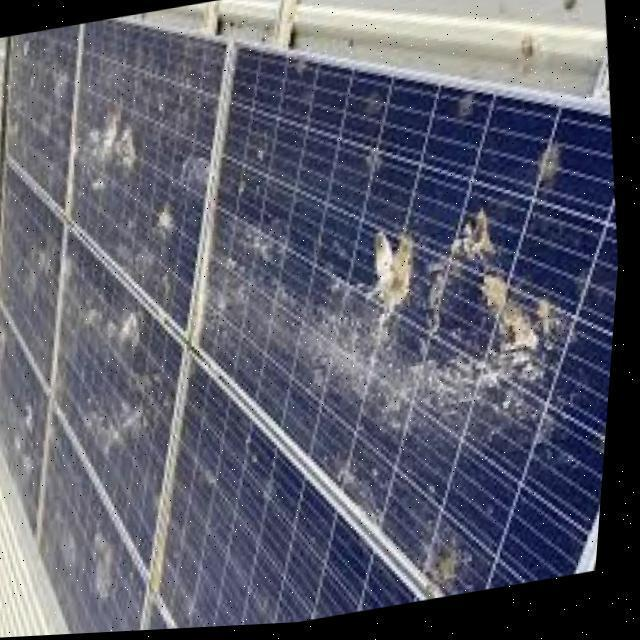Anomaly Solar Panel: (198, 46, 623, 602), (161, 354, 437, 631), (72, 18, 228, 338), (57, 225, 190, 576), (46, 404, 158, 635), (2, 160, 69, 391), (9, 23, 82, 215), (0, 301, 55, 545)
Surface Contaminant: (350, 210, 588, 454), (72, 21, 224, 206), (0, 23, 99, 214), (0, 307, 77, 549), (0, 158, 83, 372), (202, 228, 292, 356), (86, 392, 175, 461), (82, 288, 161, 363), (422, 530, 488, 596), (83, 524, 135, 602), (168, 556, 220, 630), (537, 150, 569, 192)
